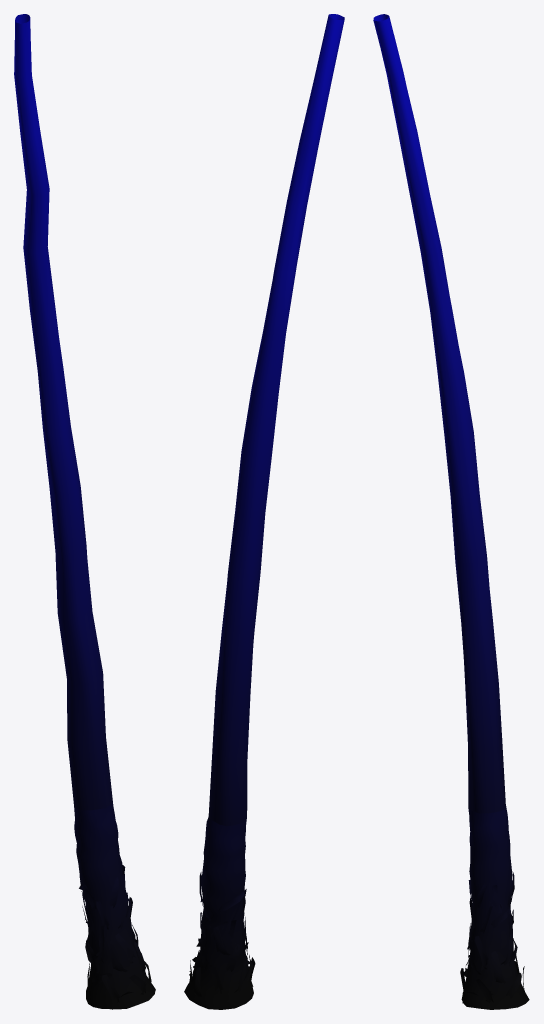
The model's file is tree5.obj.
3 renders of one model, left to right at view 1: azimuth 30°, elevation 25°; view 2: azimuth 150°, elevation 25°; view 3: azimuth 330°, elevation 25°, orthographic. The views are drawn at different scales.
Visible parts, largest first — view 1: Palm_Tree_M_01_T.003; view 2: Palm_Tree_M_01_T.003; view 3: Palm_Tree_M_01_T.003.
Boxes of the visible parts, x1,y1,x2,y2 form: Palm_Tree_M_01_T.003: (14,14,155,1009); Palm_Tree_M_01_T.003: (184,14,344,1009); Palm_Tree_M_01_T.003: (373,14,529,1009).
Size of the model in its own units: 1.83 by 12.16 by 0.8654.
